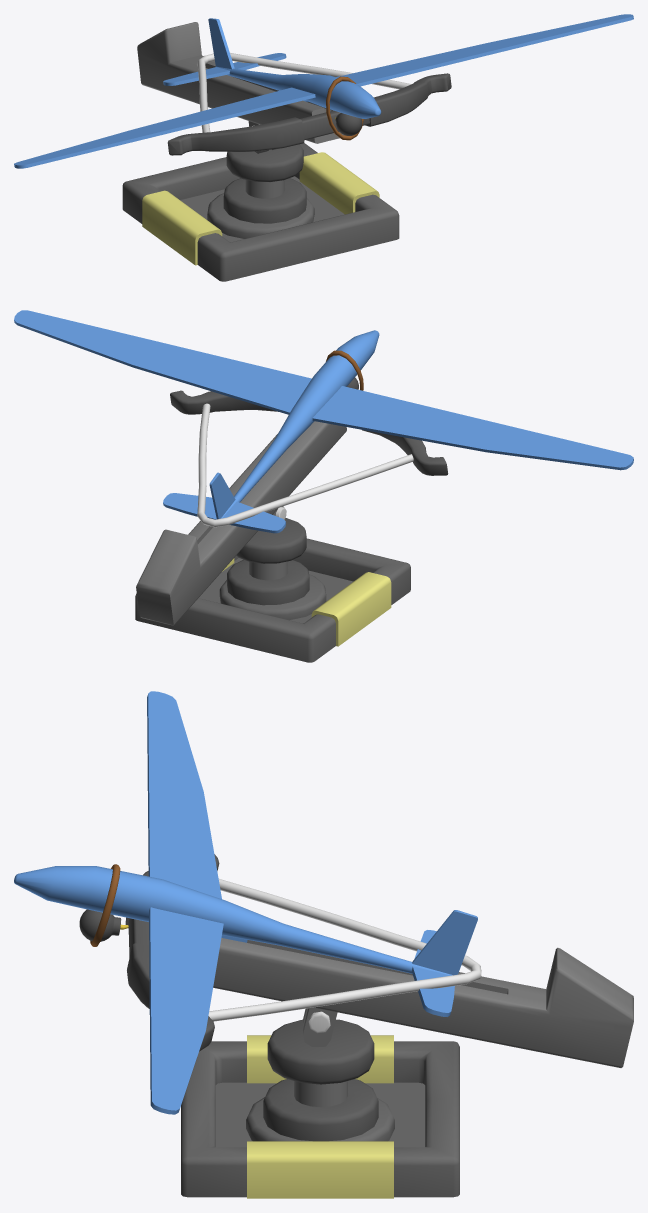
File: jet bomber F.fbx
3 renders of one model, top to bottom at view 1: azimuth 30°, elevation 25°; view 2: azimuth 150°, elevation 25°; view 3: azimuth 270°, elevation 25°, orthographic. The views are drawn at different scales.
Visible parts, largest first — view 1: Cube.182, Cube.197, Cube.193, Cube.191, Plane.007; view 2: Cube.197, Cube.182, Cube.193, Cube.191, Plane.007; view 3: Cube.197, Cube.182, Cube.193, Cube.191, Plane.007.
Boxes of the visible parts, x1=… form: Cube.182: x1=122, y1=143, x2=399, y2=281; Cube.197: x1=14, y1=14, x2=633, y2=168; Cube.193: x1=137, y1=22, x2=451, y2=155; Cube.191: x1=223, y1=144, x2=306, y2=223; Plane.007: x1=197, y1=53, x2=411, y2=132; Cube.197: x1=14, y1=310, x2=633, y2=533; Cube.182: x1=135, y1=538, x2=410, y2=662; Cube.193: x1=136, y1=390, x2=448, y2=625; Cube.191: x1=227, y1=518, x2=309, y2=605; Plane.007: x1=197, y1=403, x2=413, y2=527; Cube.197: x1=14, y1=691, x2=477, y2=1114; Cube.182: x1=181, y1=1035, x2=459, y2=1198; Cube.193: x1=125, y1=854, x2=633, y2=1067; Cube.191: x1=263, y1=1019, x2=378, y2=1141; Plane.007: x1=208, y1=879, x2=481, y2=1021.
Bounding box in the file's own units: 1783 × 551 × 1125.
